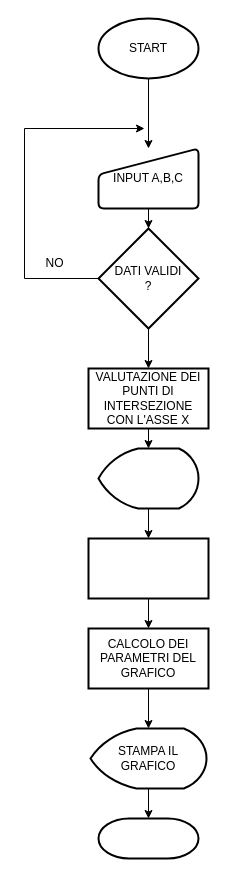
Image size: 227x876. Some labels were removed from this diagram. Here are the shapes that lost their labels. From the top down, the box of each, then its label:
(97, 447, 199, 509): STAMPA RISULTATO
(87, 537, 209, 599): CALCOLO DEL VERTICE E DELLA CONCAVITA'
(97, 817, 199, 859): STOP
